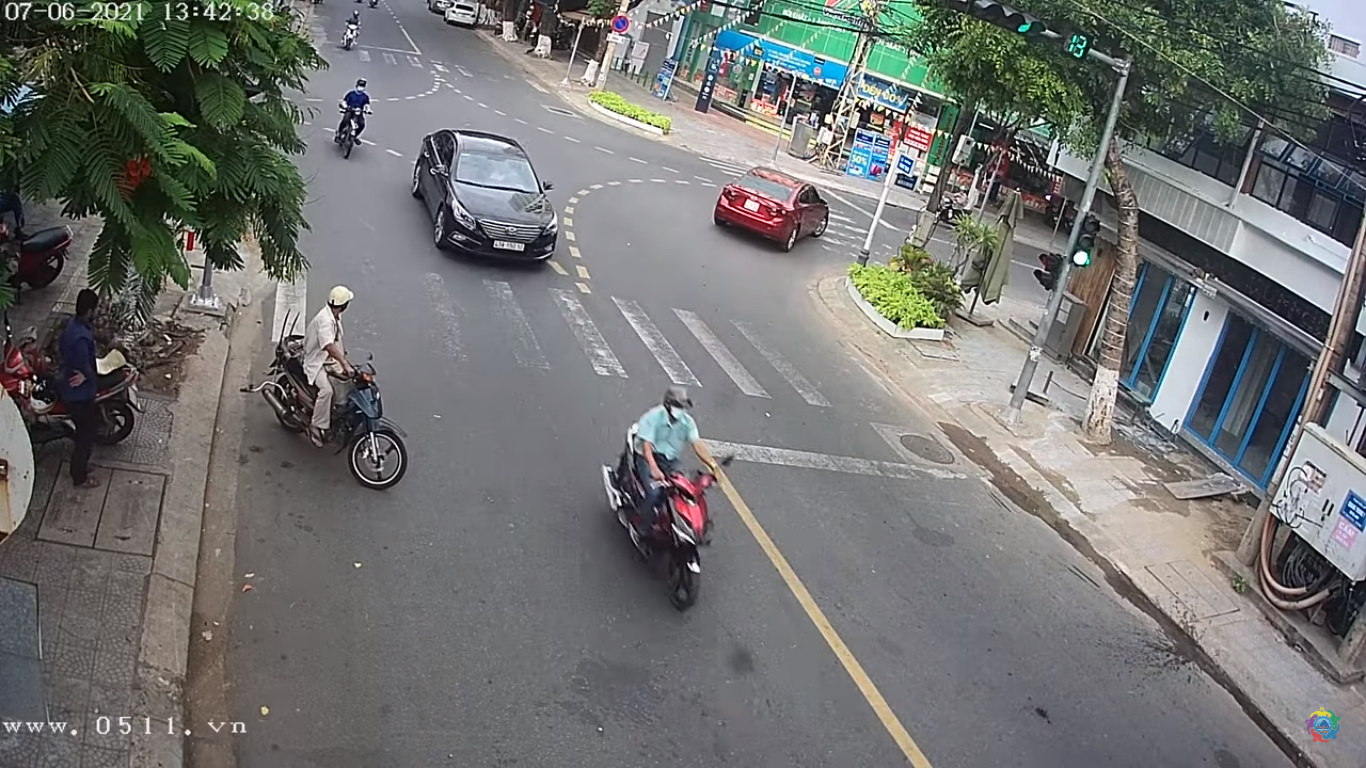car: (419, 124, 560, 274)
